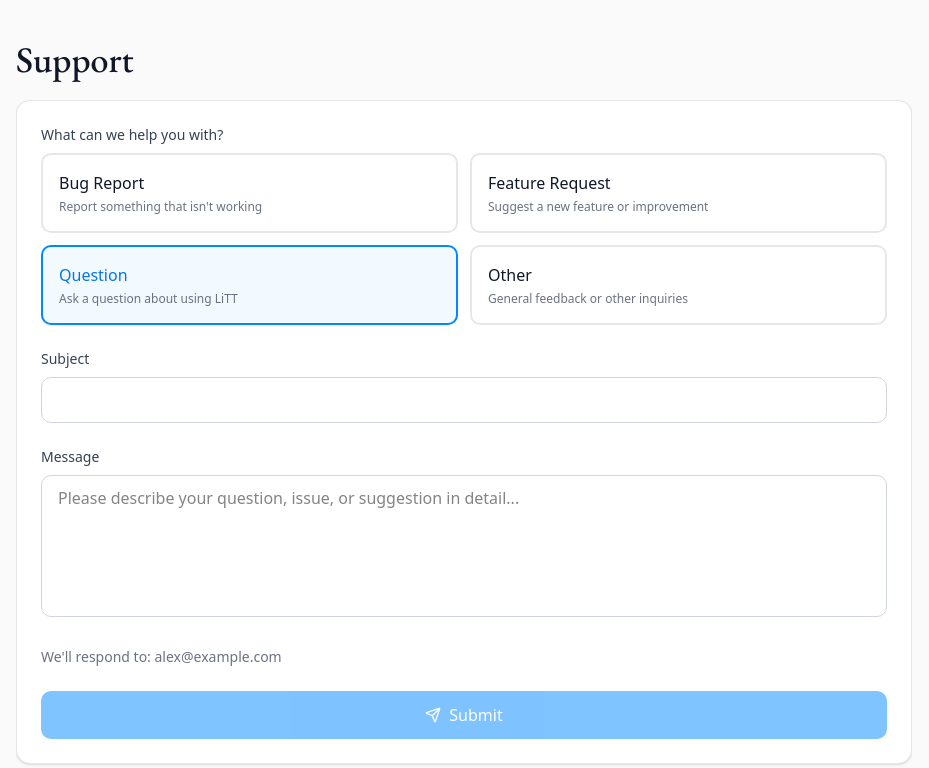
Test: SupportPage › says the message did not send, and Submit sends it again
Type "Cannot upload" into the field labelled "Subject" at (464,400), box [41, 377, 887, 423]
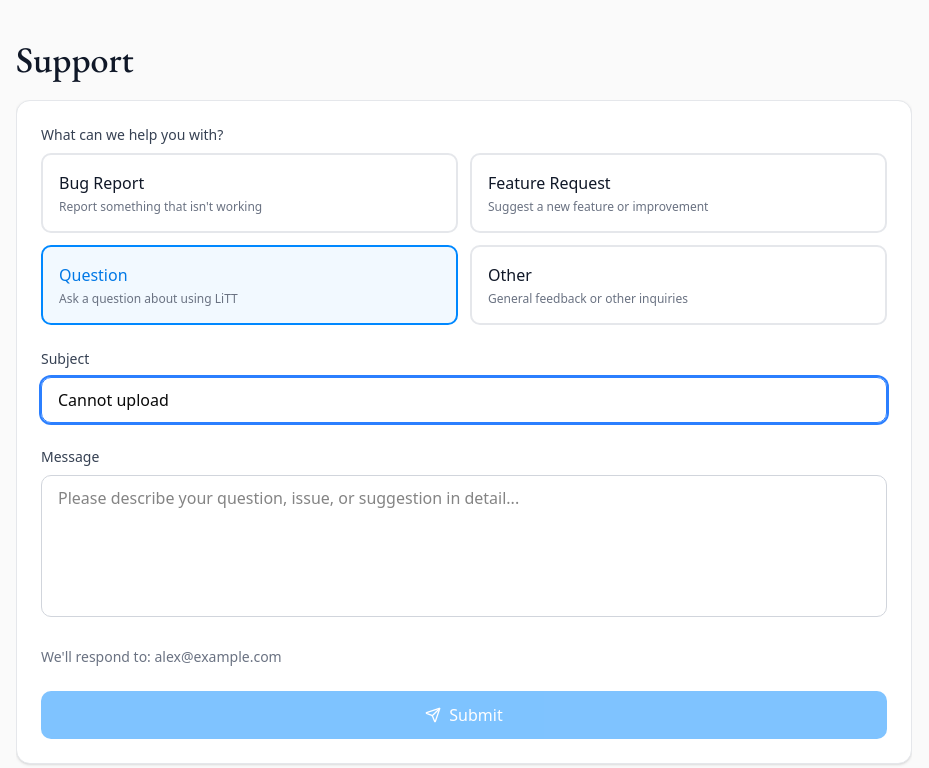
Type "It fails every time." into the text box labelled "Message" at (464,546), box [41, 475, 887, 617]
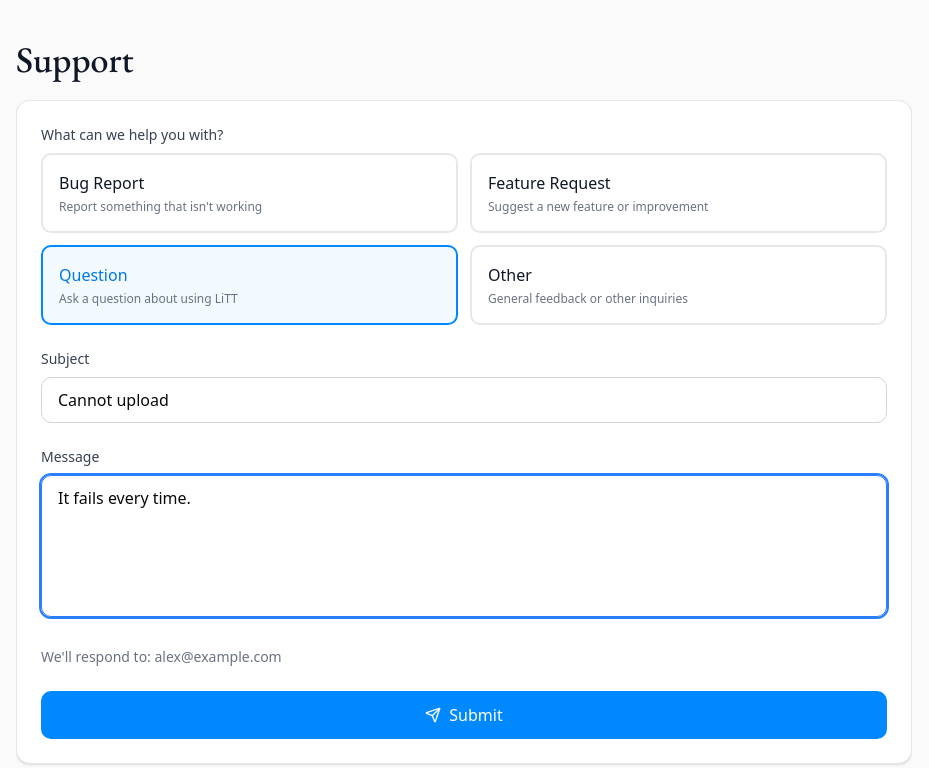
Click the button "Submit" at (464,715), box [41, 691, 887, 739]
(page scrolled)
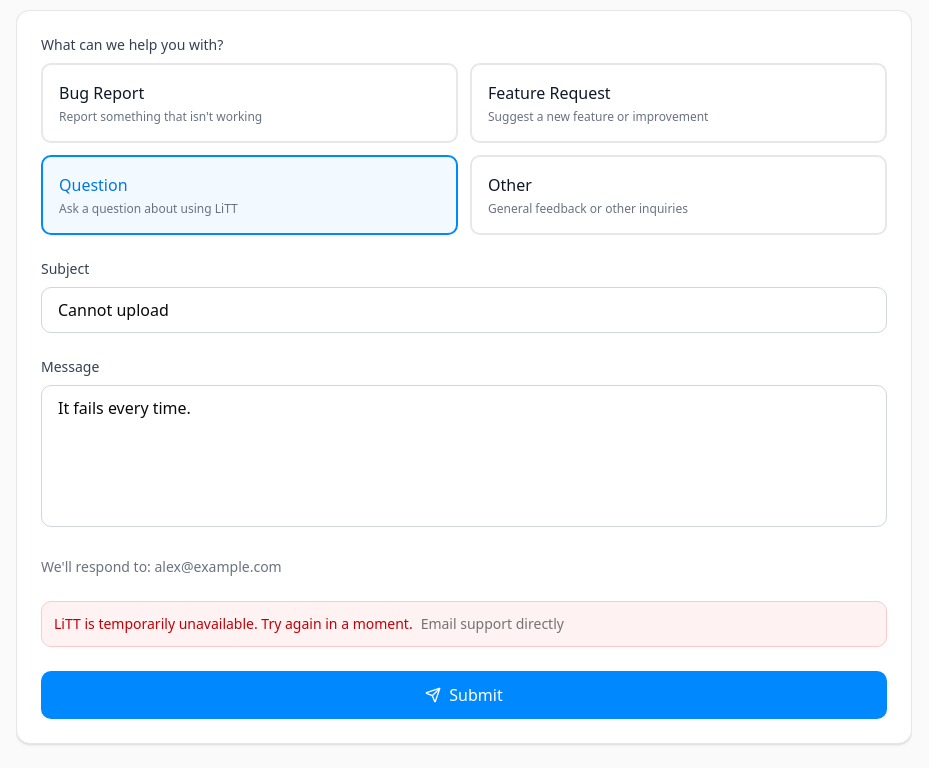
Result: the message shows "LiTT is temporarily unavailable. Try again in a moment." at [54, 614, 413, 633]
Click the button "Submit" at (464,695), box [41, 671, 887, 719]
(page scrolled)
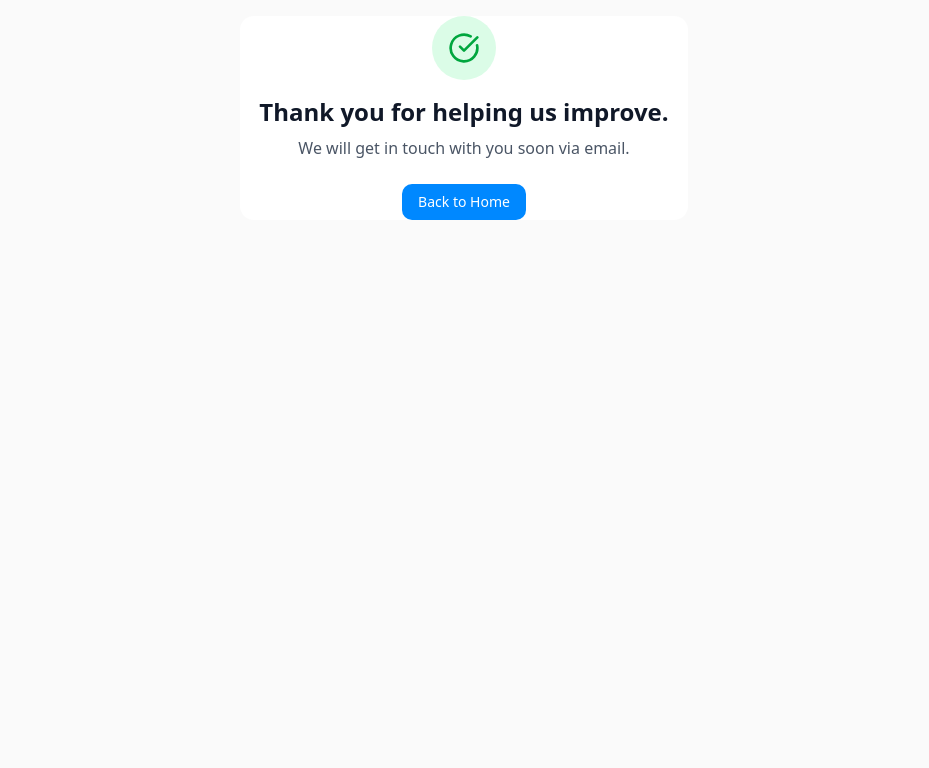
Result: the heading "Thank you for helping us improve." is shown at [240, 96, 688, 128]
